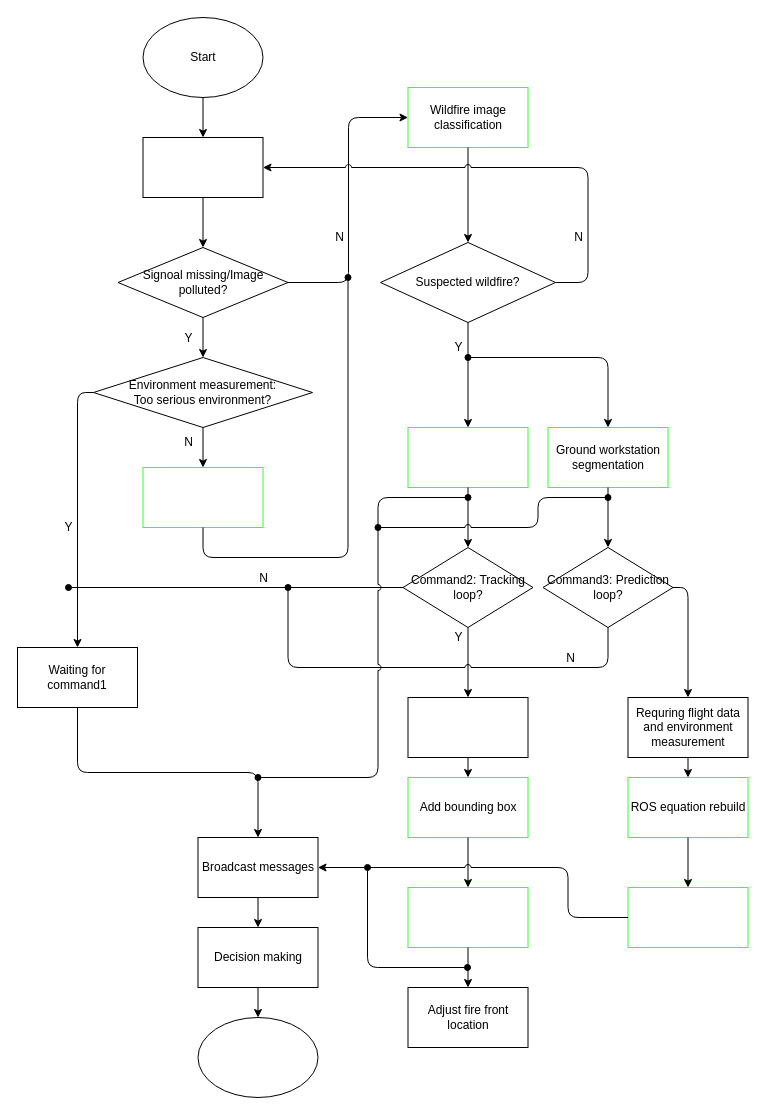
Image size: 766x1115. Some labels were removed from this diagram. Here are the shapes that lost their labels. From the top down, the centre of each, then its label:
At pixel 202 167: "UAV patrolling".
At pixel 467 457: "On-board segmentation".
At pixel 202 497: "On-board GAN restoration".
At pixel 467 727: "Requring Detection feature".
At pixel 467 917: "Tracking".
At pixel 687 917: "Prediction".
At pixel 257 1057: "End".
